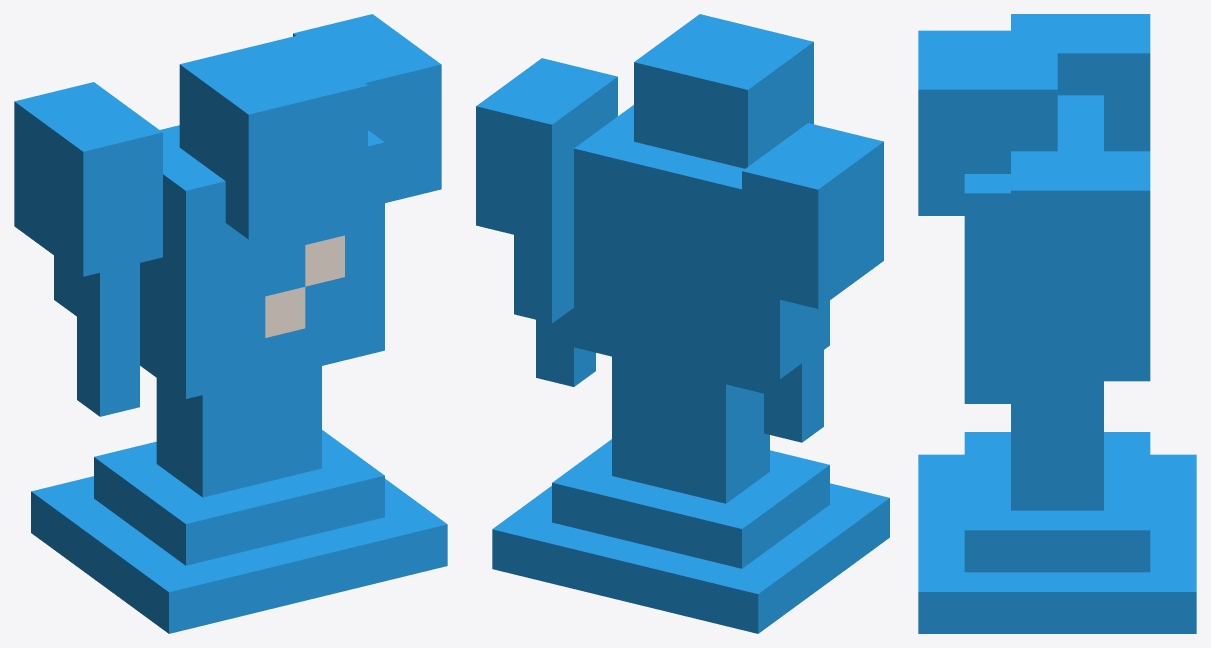
The model's file is slob_b_idle_0.obj.
3 views of the same model, side by side, from view 1: azimuth 30°, elevation 25°; view 2: azimuth 150°, elevation 25°; view 3: azimuth 270°, elevation 25° (orthographic). The views are drawn at different scales.
Size of the model in its own units: 0.9 by 1.2 by 0.6.
Materials: 1 (1 with a texture image).
